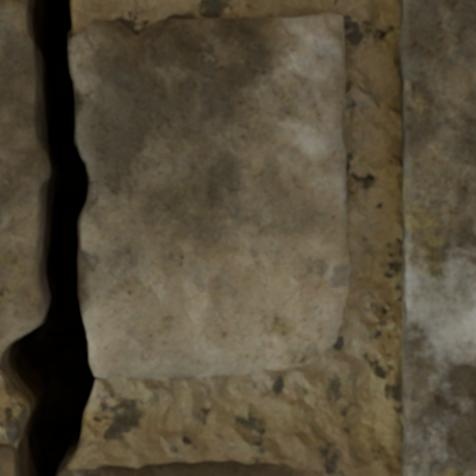brick: (400, 0, 475, 475)
broken_brick: (69, 11, 350, 379), (0, 0, 48, 354), (63, 461, 325, 475), (0, 444, 15, 475)
crack: (0, 0, 97, 475), (125, 27, 148, 47)
